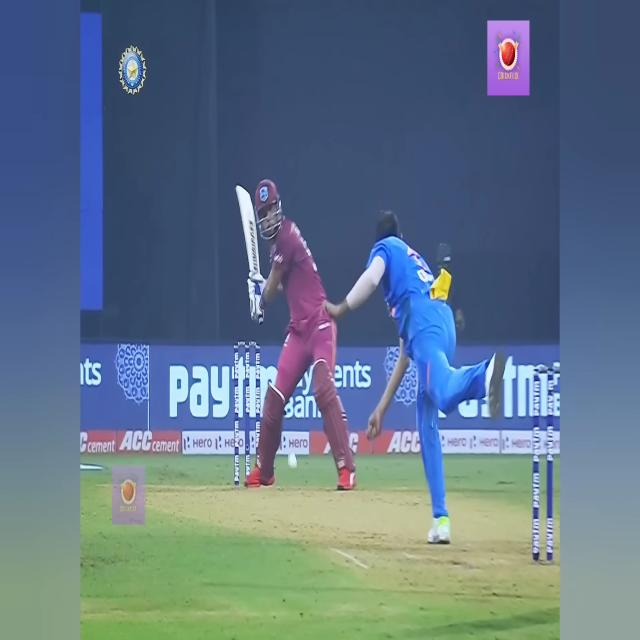partially_visible: (166, 361, 280, 431)
